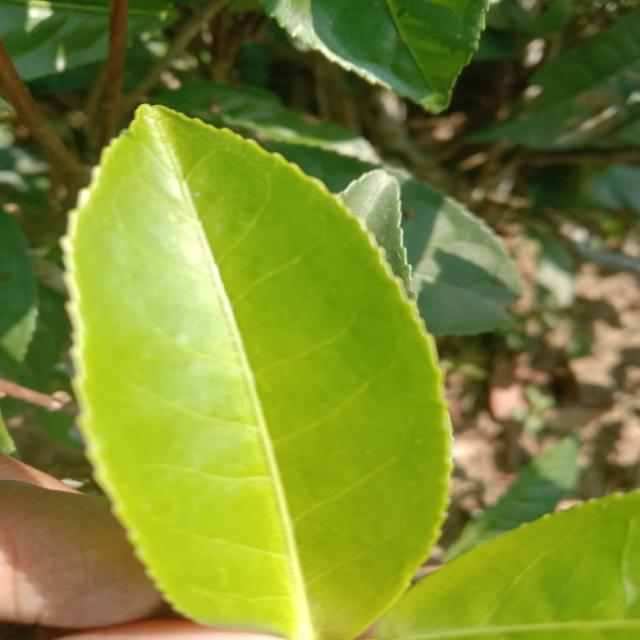Category B(2-4 days): (54, 97, 463, 637)
